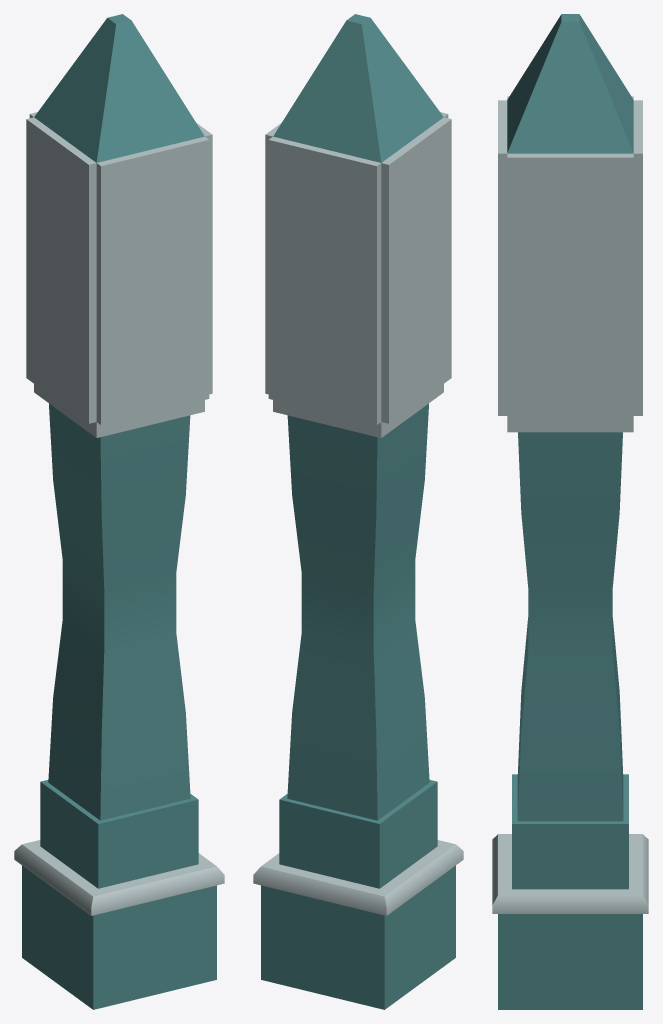
The model's file is Pillar_A.fbx.
3 views of the same model, side by side, from view 1: azimuth 30°, elevation 25°; view 2: azimuth 150°, elevation 25°; view 3: azimuth 270°, elevation 25° (orthographic).
Visible parts, largest first — view 1: Pillar_A; view 2: Pillar_A; view 3: Pillar_A.
Part boxes in pixels (left/top/right/bottom): Pillar_A: left=14, top=14, right=224, bottom=1009; Pillar_A: left=253, top=14, right=463, bottom=1009; Pillar_A: left=492, top=14, right=648, bottom=1009.
Size of the model in its own units: 43.13 by 293 by 43.13.
